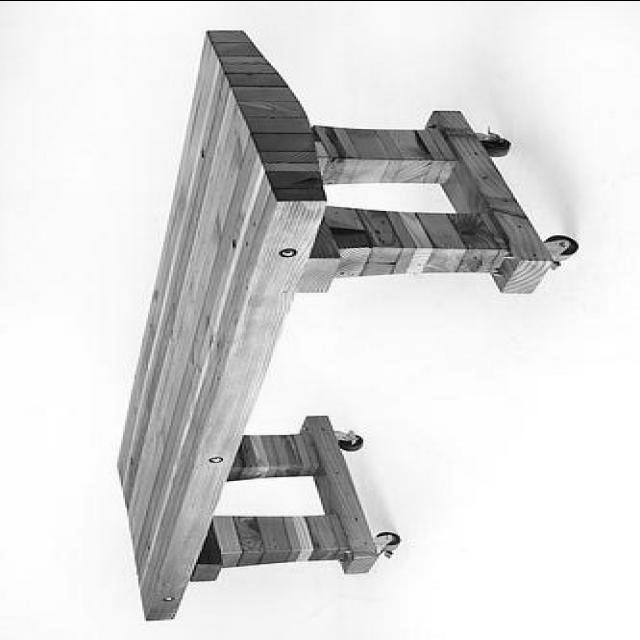table: (113, 29, 563, 620)
